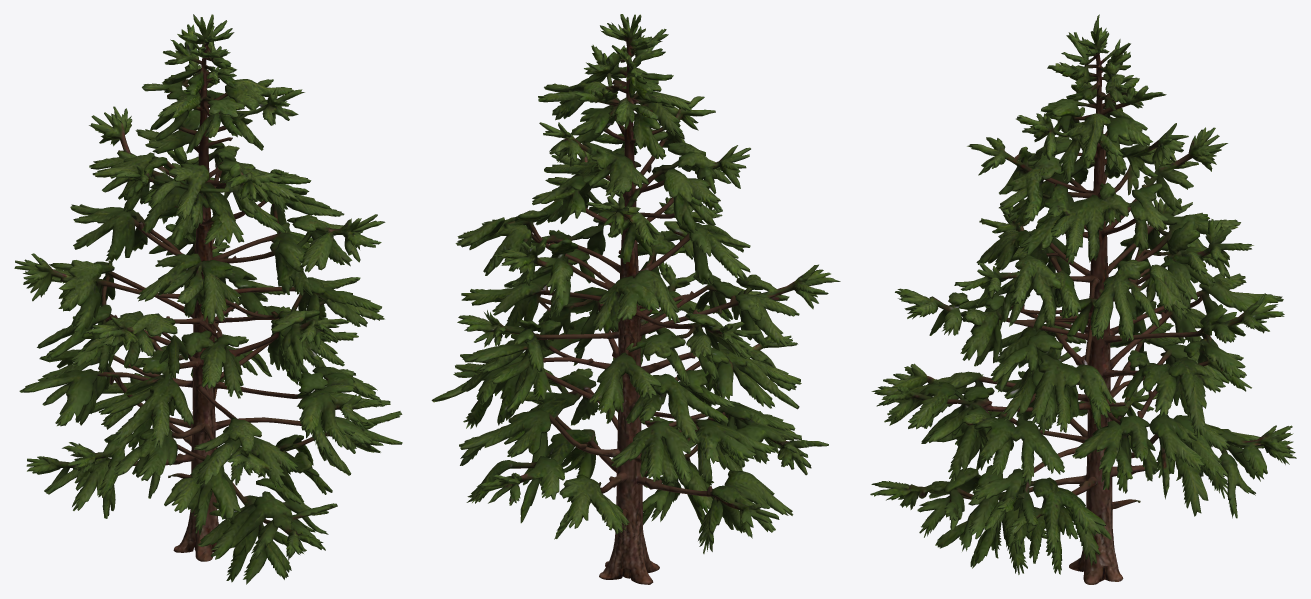
File: fir.glb
3 renders of one model, left to right at view 1: azimuth 30°, elevation 25°; view 2: azimuth 150°, elevation 25°; view 3: azimuth 270°, elevation 25°, orthographic. The views are drawn at different scales.
Visible parts, largest first — view 1: tripo_node_fe20908f-e82c-42cd-8dad-1d714feeeadc; view 2: tripo_node_fe20908f-e82c-42cd-8dad-1d714feeeadc; view 3: tripo_node_fe20908f-e82c-42cd-8dad-1d714feeeadc.
Part boxes in pixels (<box>): tripo_node_fe20908f-e82c-42cd-8dad-1d714feeeadc: <box>14,14,402,584</box>; tripo_node_fe20908f-e82c-42cd-8dad-1d714feeeadc: <box>431,14,840,584</box>; tripo_node_fe20908f-e82c-42cd-8dad-1d714feeeadc: <box>870,14,1296,584</box>.
Bounding box in the file's own units: 3.13 × 5 × 3.49.
Materials: 1 (1 with a texture image).
